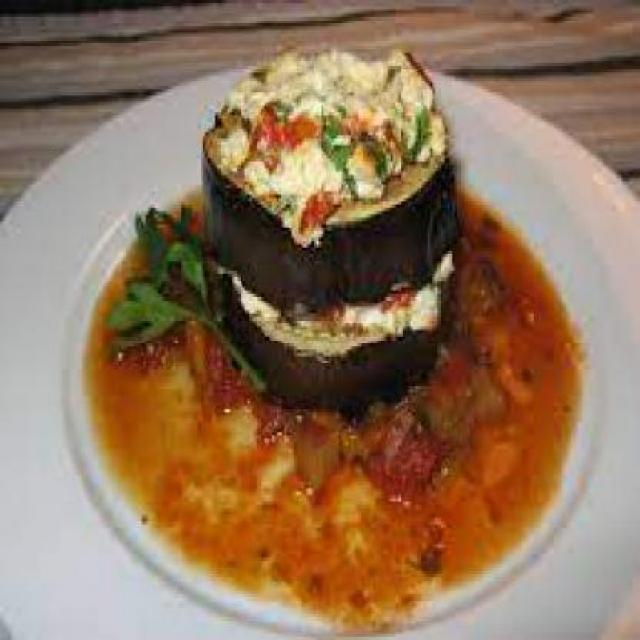eggplant: (107, 300, 576, 620), (195, 145, 458, 284)
hummus: (210, 36, 450, 235), (212, 260, 468, 337)
